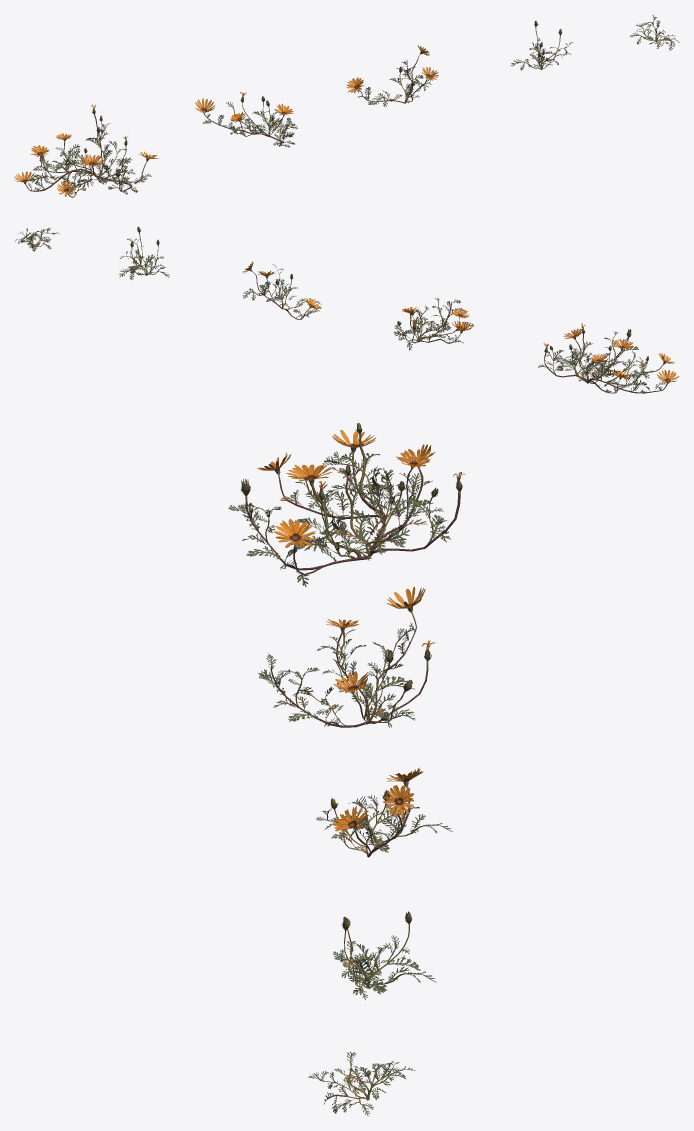
The model's file is flower_ursinia.glb.
3 views of the same model, one above another, from view 1: azimuth 30°, elevation 25°; view 2: azimuth 150°, elevation 25°; view 3: azimuth 270°, elevation 25° (orthographic). The views are drawn at different scales.
Visible parts, largest first — view 1: flower_ursinia_a_LOD0, flower_ursinia_b_LOD0, flower_ursinia_c_LOD0, flower_ursinia_d_LOD0, flower_ursinia_e_LOD0; view 2: flower_ursinia_a_LOD0, flower_ursinia_b_LOD0, flower_ursinia_c_LOD0, flower_ursinia_d_LOD0, flower_ursinia_e_LOD0; view 3: flower_ursinia_a_LOD0, flower_ursinia_b_LOD0, flower_ursinia_c_LOD0, flower_ursinia_d_LOD0, flower_ursinia_e_LOD0.
Boxes of the visible parts, x1,y1,x2,y2 form: flower_ursinia_a_LOD0: [14, 104, 158, 197]; flower_ursinia_b_LOD0: [195, 92, 297, 147]; flower_ursinia_c_LOD0: [346, 45, 438, 106]; flower_ursinia_d_LOD0: [511, 20, 572, 70]; flower_ursinia_e_LOD0: [630, 15, 679, 50]; flower_ursinia_a_LOD0: [538, 323, 679, 393]; flower_ursinia_b_LOD0: [393, 298, 474, 350]; flower_ursinia_c_LOD0: [242, 261, 321, 319]; flower_ursinia_d_LOD0: [118, 227, 169, 279]; flower_ursinia_e_LOD0: [15, 228, 58, 251]; flower_ursinia_a_LOD0: [228, 423, 465, 586]; flower_ursinia_b_LOD0: [258, 586, 435, 727]; flower_ursinia_c_LOD0: [316, 767, 452, 857]; flower_ursinia_d_LOD0: [333, 911, 436, 999]; flower_ursinia_e_LOD0: [308, 1051, 415, 1115].
Bounding box in the file's own units: 2.19 × 0.1718 × 0.3433.
1 material, 1 textured.
